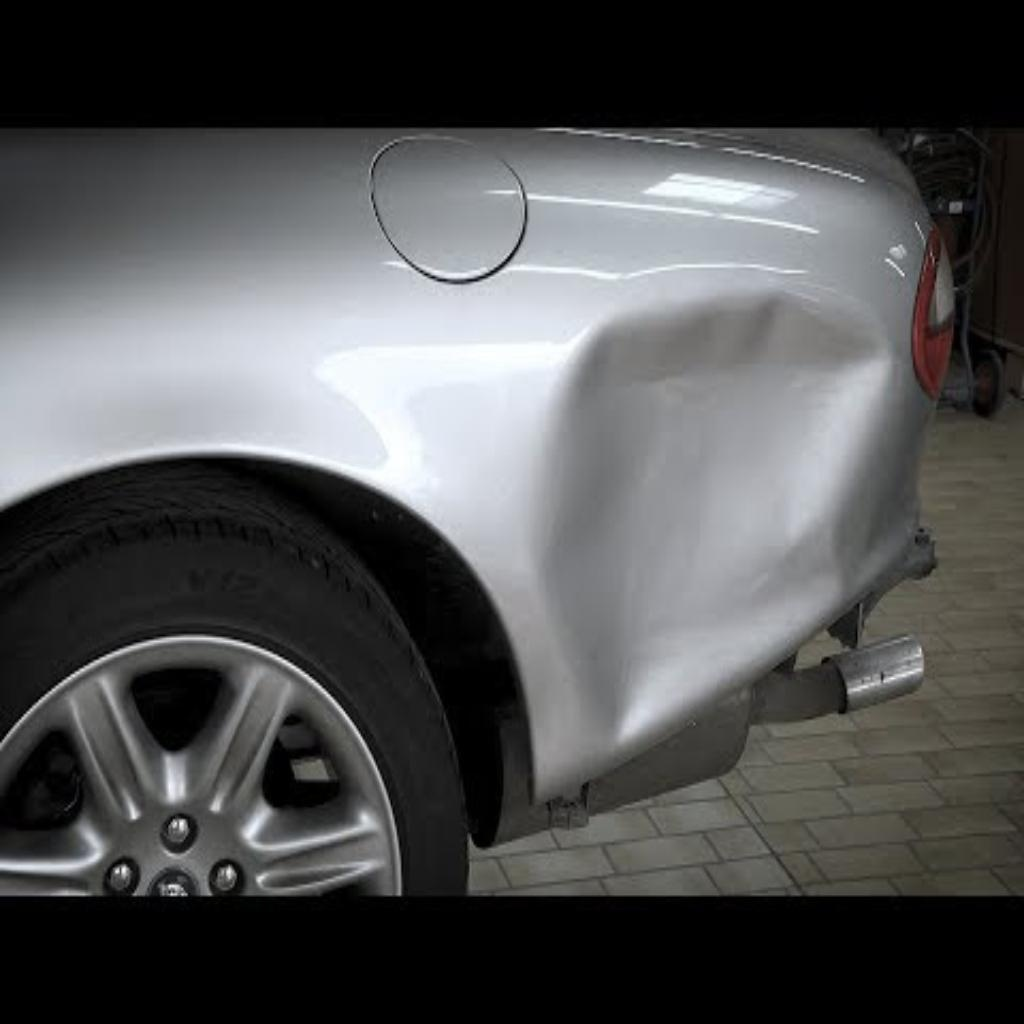Dent: (524, 284, 888, 743)
